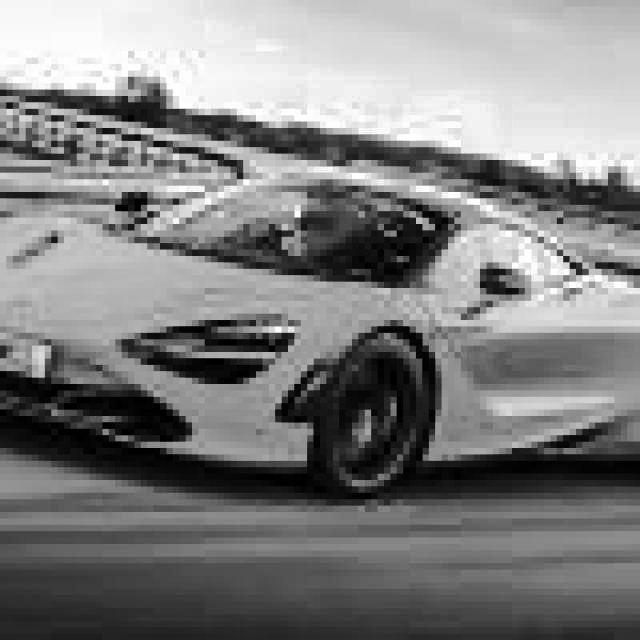Car: (0, 133, 640, 557)
